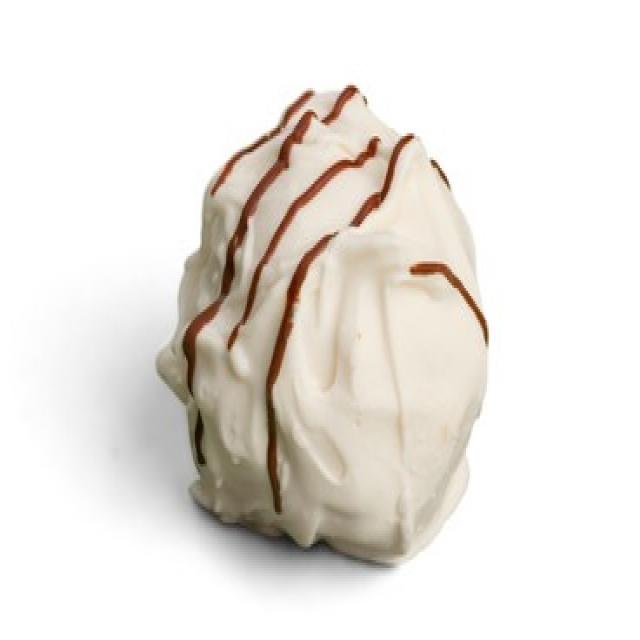Chocolate: (164, 86, 490, 573)
